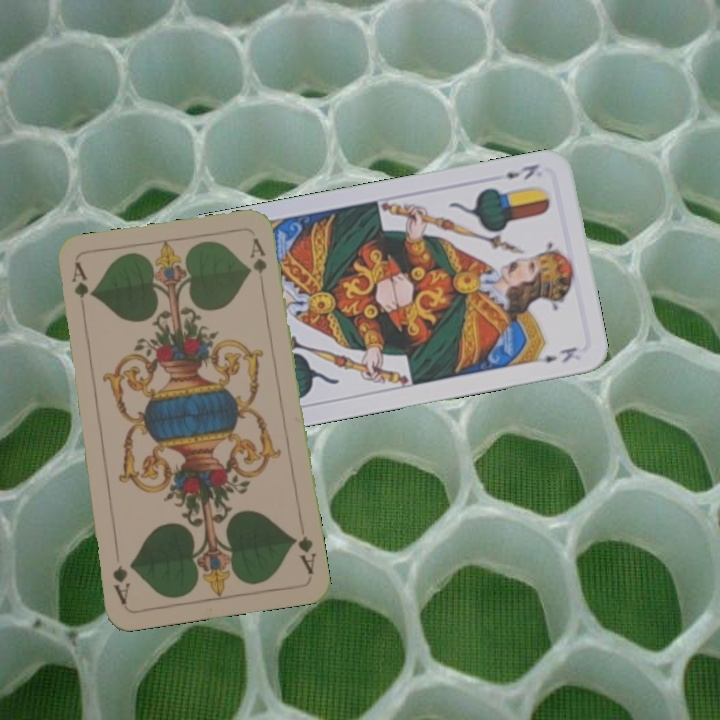EK: (501, 160, 542, 183)
GA: (288, 531, 318, 577), (67, 259, 90, 318)
